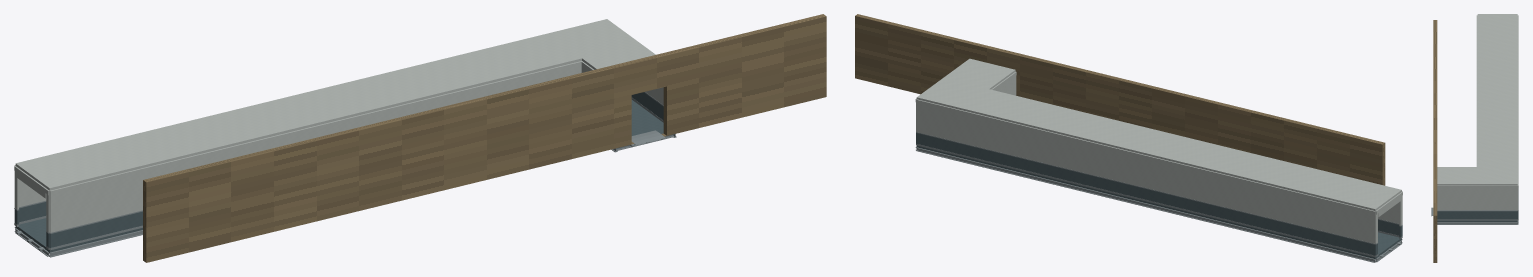
The model's file is LIBRARY_RECEIVING_RECEIVER_r001.glb.
3 renders of one model, left to right at view 1: azimuth 30°, elevation 25°; view 2: azimuth 150°, elevation 25°; view 3: azimuth 270°, elevation 25°, orthographic. The views are drawn at different scales.
Visible parts, largest first — view 1: LRS_EXACT_SOUTH_SUCCESSOR, LRS_BATCH_001, LRS_BATCH_000, LRS_BATCH_002; view 2: LRS_BATCH_001, LRS_EXACT_SOUTH_SUCCESSOR, LRS_BATCH_000, LRS_BATCH_002; view 3: LRS_BATCH_001, LRS_EXACT_SOUTH_SUCCESSOR, LRS_BATCH_000, LRS_BATCH_002.
Part boxes in pixels (box(x1,y1,x2,y2)): LRS_EXACT_SOUTH_SUCCESSOR: box(143, 14, 826, 262); LRS_BATCH_001: box(14, 19, 663, 232); LRS_BATCH_000: box(14, 92, 674, 253); LRS_BATCH_002: box(14, 92, 676, 257); LRS_BATCH_001: box(915, 58, 1402, 243); LRS_EXACT_SOUTH_SUCCESSOR: box(855, 14, 1385, 185); LRS_BATCH_000: box(916, 132, 1402, 259); LRS_BATCH_002: box(915, 132, 1402, 262); LRS_BATCH_001: box(1437, 14, 1518, 210); LRS_EXACT_SOUTH_SUCCESSOR: box(1433, 20, 1437, 262); LRS_BATCH_000: box(1437, 211, 1518, 221); LRS_BATCH_002: box(1431, 188, 1518, 224).
Size of the model in its own units: 50.3 by 5.66 by 8.69.
Materials: 5 (4 with a texture image).
